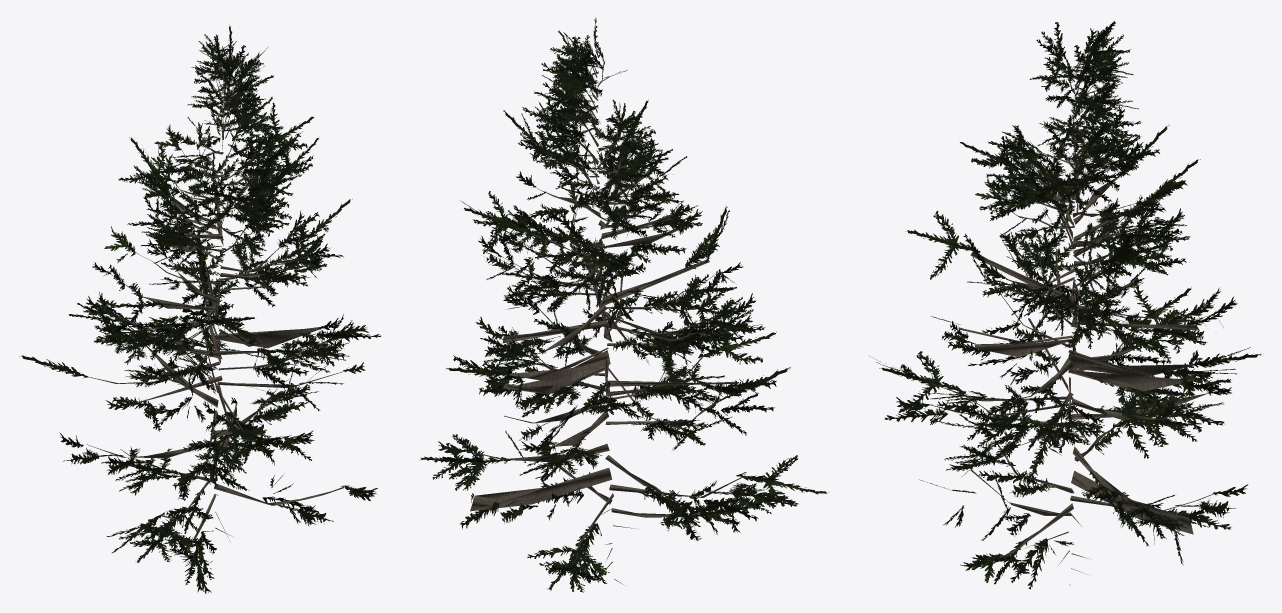
The model's file is fir_sapling_medium_a_LOD1.glb.
3 views of the same model, side by side, from view 1: azimuth 30°, elevation 25°; view 2: azimuth 150°, elevation 25°; view 3: azimuth 270°, elevation 25° (orthographic). The views are drawn at different scales.
Parts seen in each view (by area): view 1: fir_sapling_medium_a_LOD1; view 2: fir_sapling_medium_a_LOD1; view 3: fir_sapling_medium_a_LOD1.
Part boxes in pixels (<box>): fir_sapling_medium_a_LOD1: <box>19,26,380,593</box>; fir_sapling_medium_a_LOD1: <box>419,18,828,592</box>; fir_sapling_medium_a_LOD1: <box>868,21,1261,589</box>.
Size of the model in its own units: 5.24 by 8.74 by 5.5.
3 materials, 3 textured.
